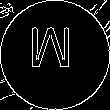M_S: (32, 30, 78, 80)
